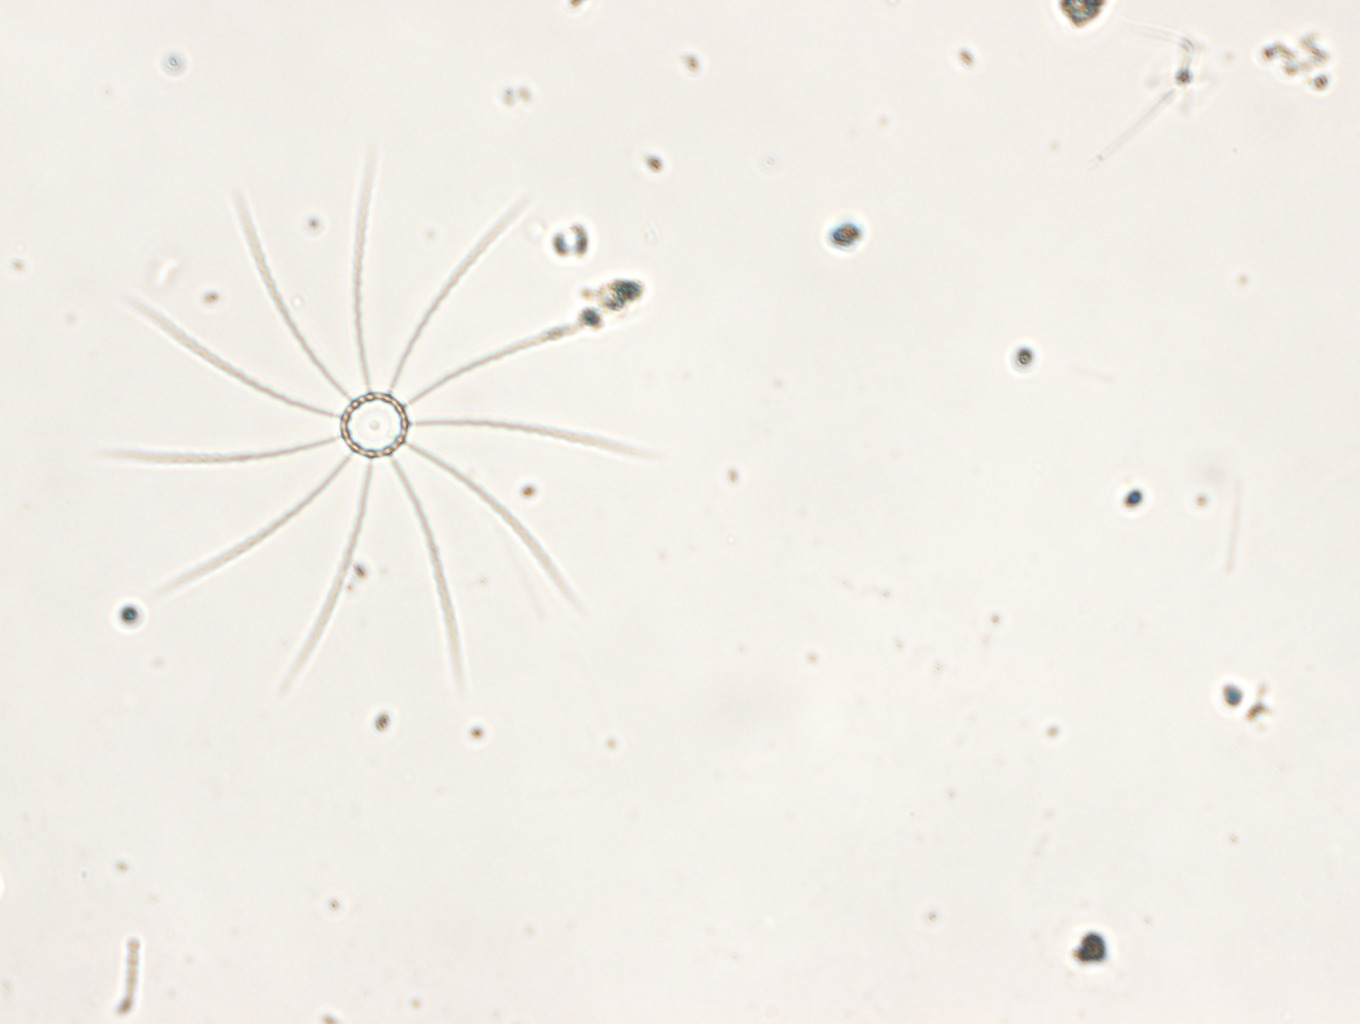bacteriastrum: (78, 166, 667, 706)
